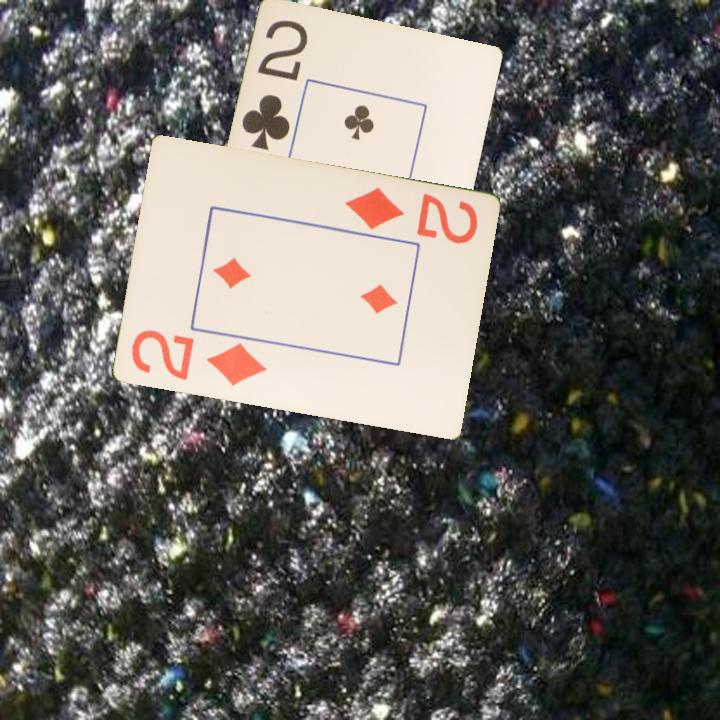2c: (238, 17, 311, 154)
2d: (341, 183, 481, 248), (127, 326, 269, 389)
